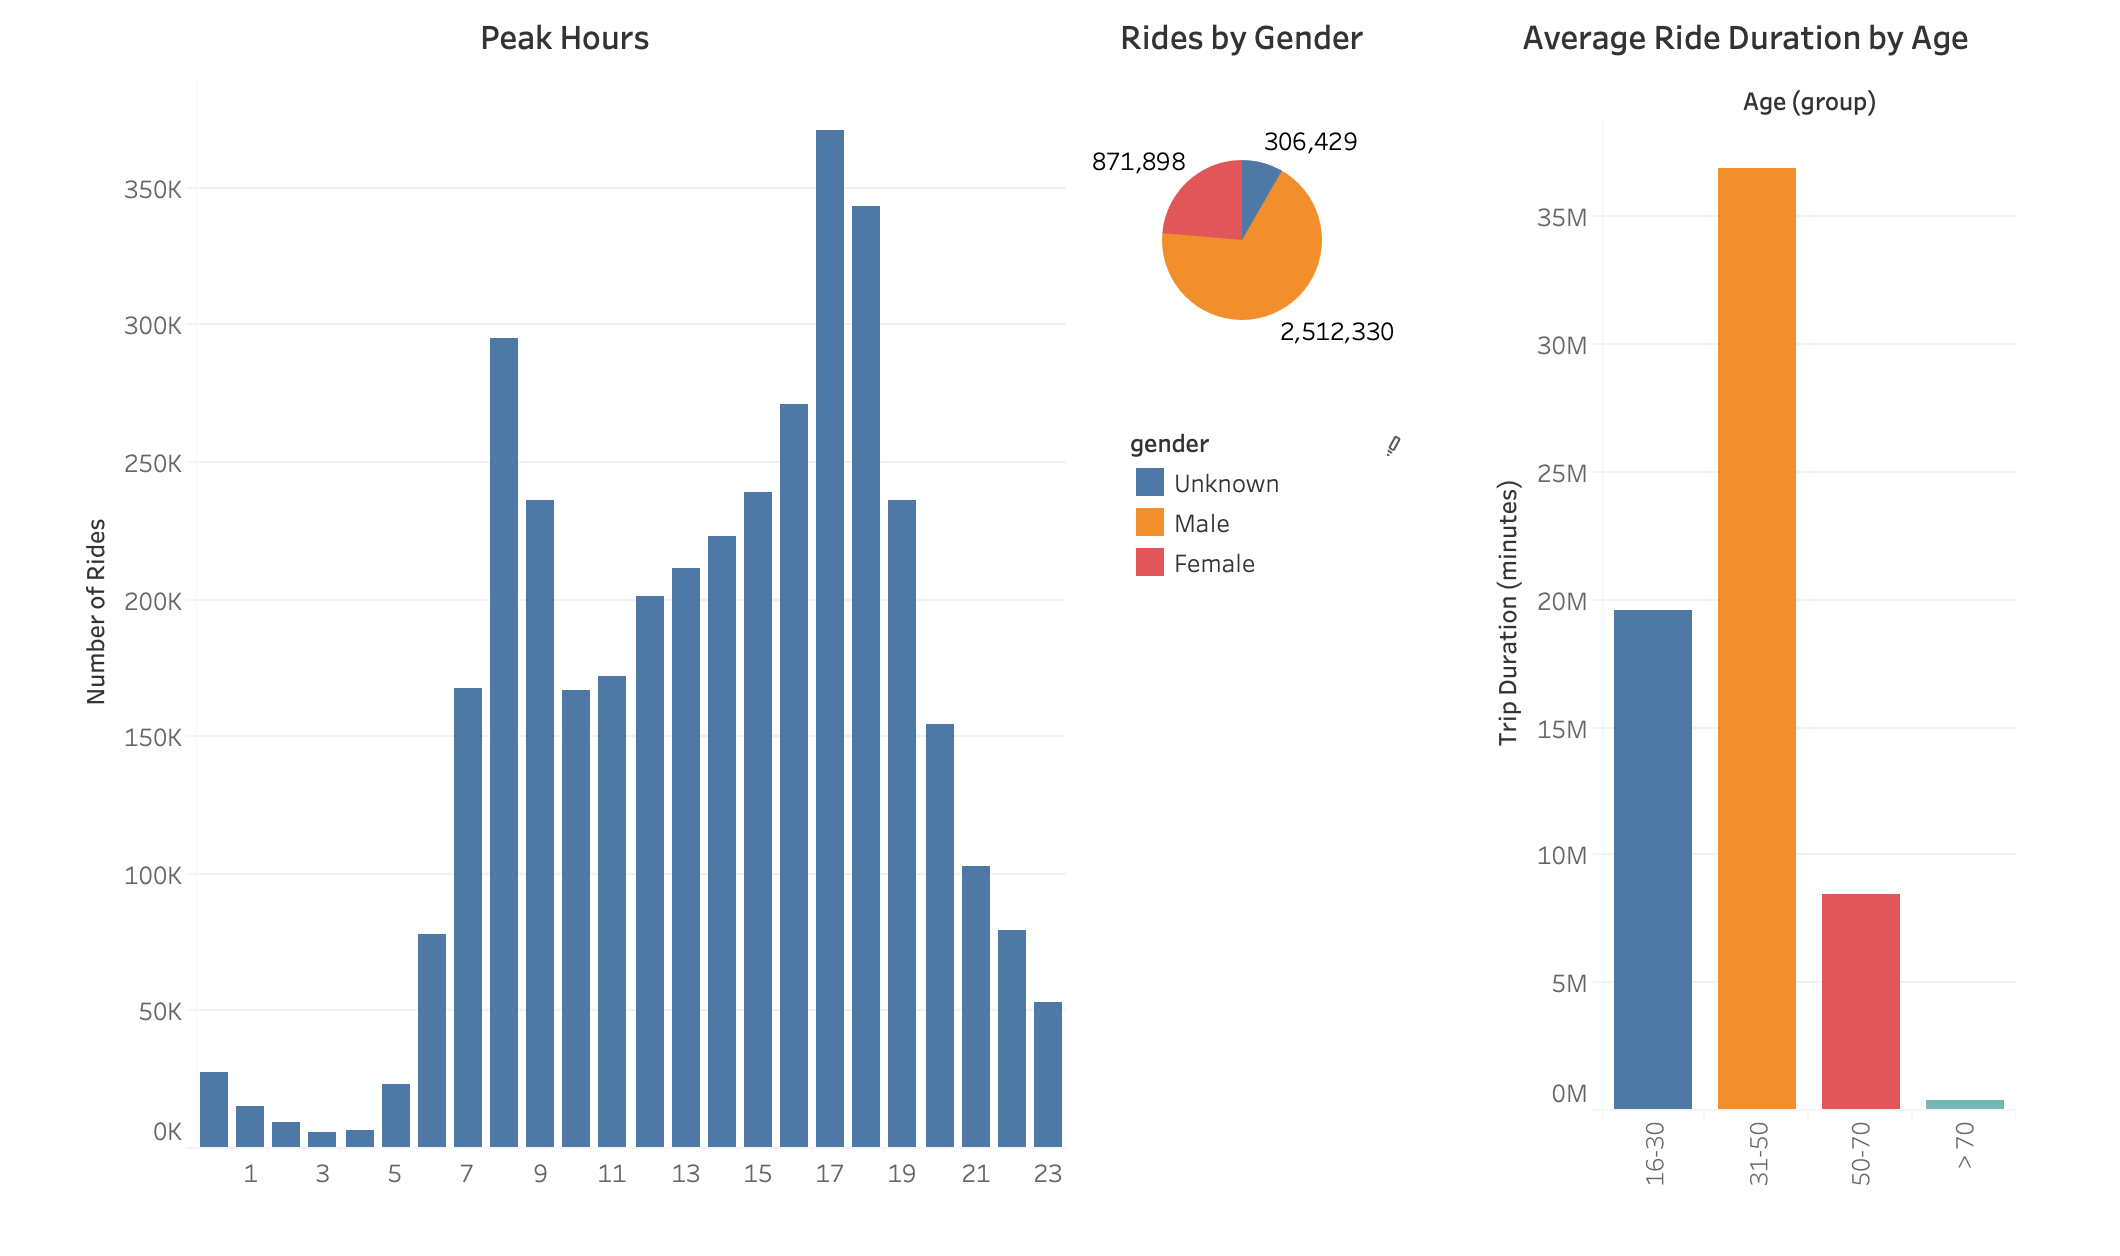

Layout of this report page (visuals, bound fields, positions):
{"tool":"tableau","page":{"name":"Dashboard 2","canvas":[1000,800],"ordinal":1},"visuals":[{"type":"worksheet","title":"Peak Hours","mark":"Bar","rows":["Number of Records"],"cols":["starttime"],"box":[8,8,509,600]},{"type":"worksheet","title":"Rides by Gender","mark":"Pie","box":[517,8,197,600]},{"type":"worksheet","title":"Average Trip Age","mark":"Automatic","rows":["Calculation_5269563413028589568"],"box":[714,8,278,600]},{"type":"legend","title":"Rides by Gender","param":"[federated.1nditio1eug0k91dyusrt0kny7fd].[none:gender:ok]","box":[545,222,140,78]}]}

Visuals, with their boxes on the page's 1000x800 design canvas (x1, y1, x2, y2). These are canvas units, not pixel positions in the 2120x1256 screenshot, which may show the page scaled, cropped or inside an application window:
"Peak Hours" worksheet (Bar marks): [8,8,517,608]
"Rides by Gender" worksheet (Pie marks): [517,8,714,608]
"Average Trip Age" worksheet: [714,8,992,608]
"Rides by Gender" legend: [545,222,685,300]
